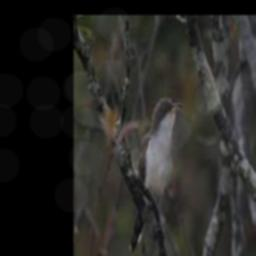Cuckoo: (128, 97, 184, 255)
